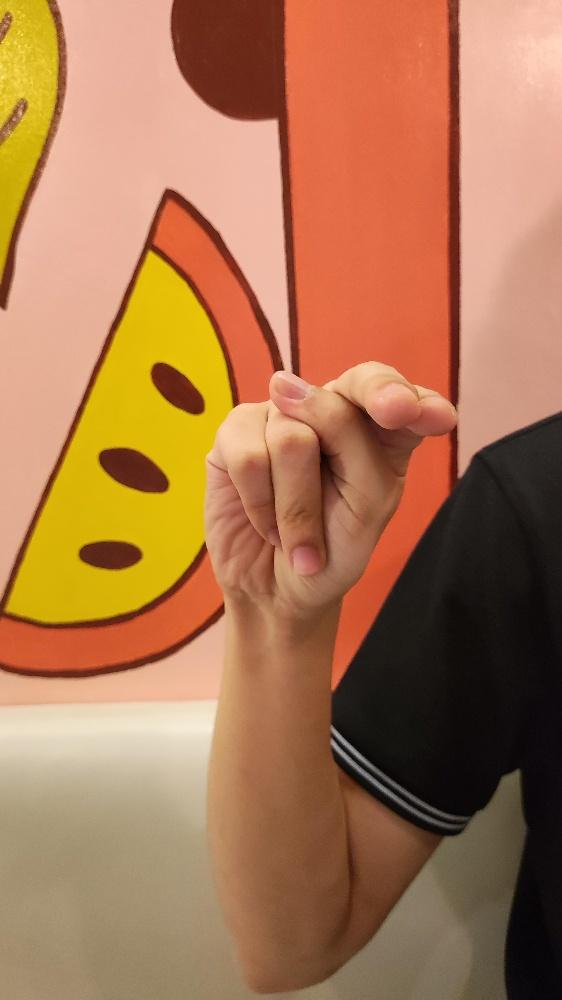n: (201, 358, 458, 609)
